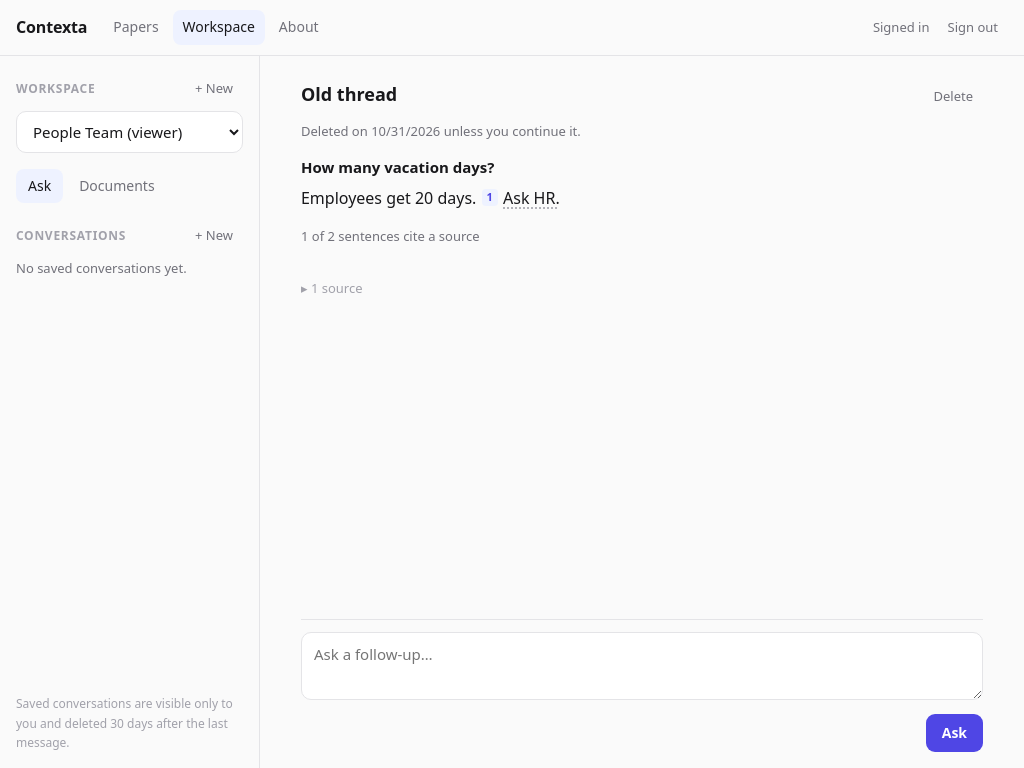
Test case: opening a stored conversation shows its full passages
Expected: the heading "Old thread" is shown, [301,80,397,109]
Expected: the text "1 of 2 sentences cite a source" is shown, [301,227,480,245]
Click the button "▸ 1 source".
click(332, 288)  # box [301,278,363,299]
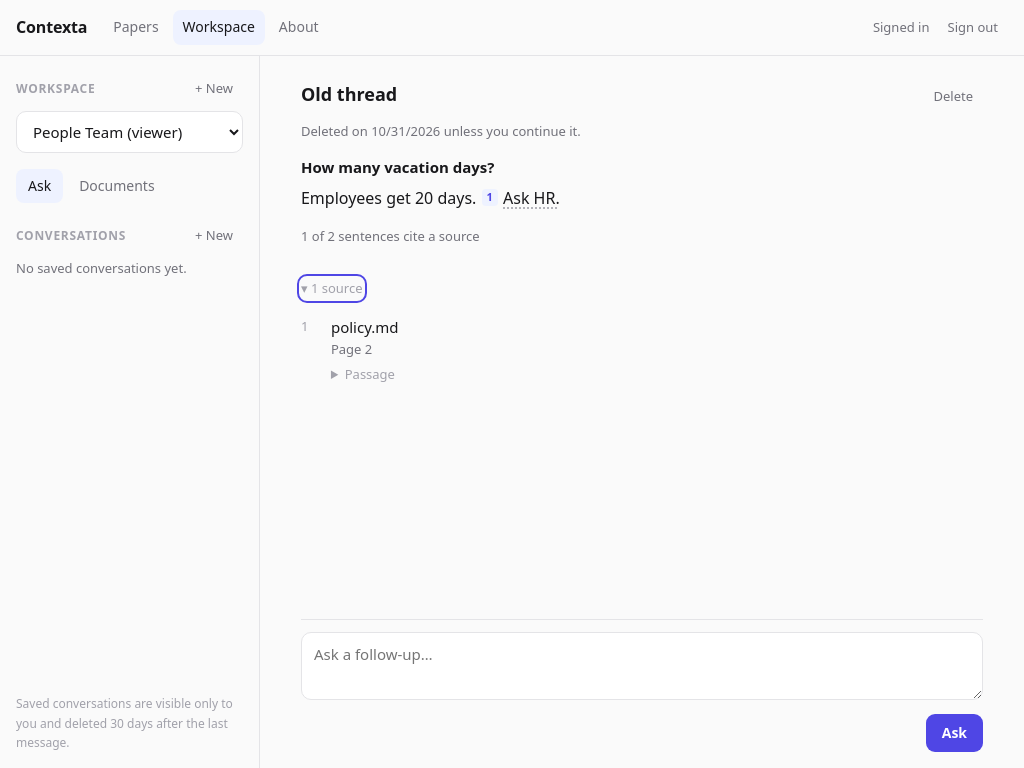
Expected: the text "Page 2" is shown, [331,340,372,358]
